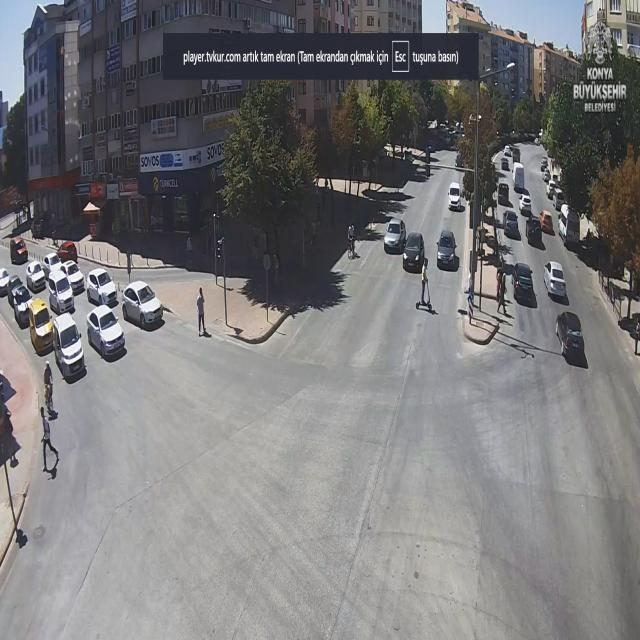Car: (551, 306, 592, 368), (51, 313, 85, 376), (86, 306, 125, 358), (122, 280, 162, 326), (27, 298, 54, 351), (8, 278, 33, 326), (87, 268, 118, 306), (512, 262, 534, 300), (403, 232, 425, 270), (436, 230, 457, 268), (544, 261, 566, 297), (384, 217, 406, 251), (25, 260, 47, 292), (57, 241, 78, 264), (10, 238, 28, 264), (503, 210, 519, 236), (538, 210, 554, 235), (448, 182, 462, 210), (518, 194, 531, 214), (498, 183, 510, 202), (501, 158, 510, 170), (542, 170, 550, 182), (504, 146, 512, 156)
